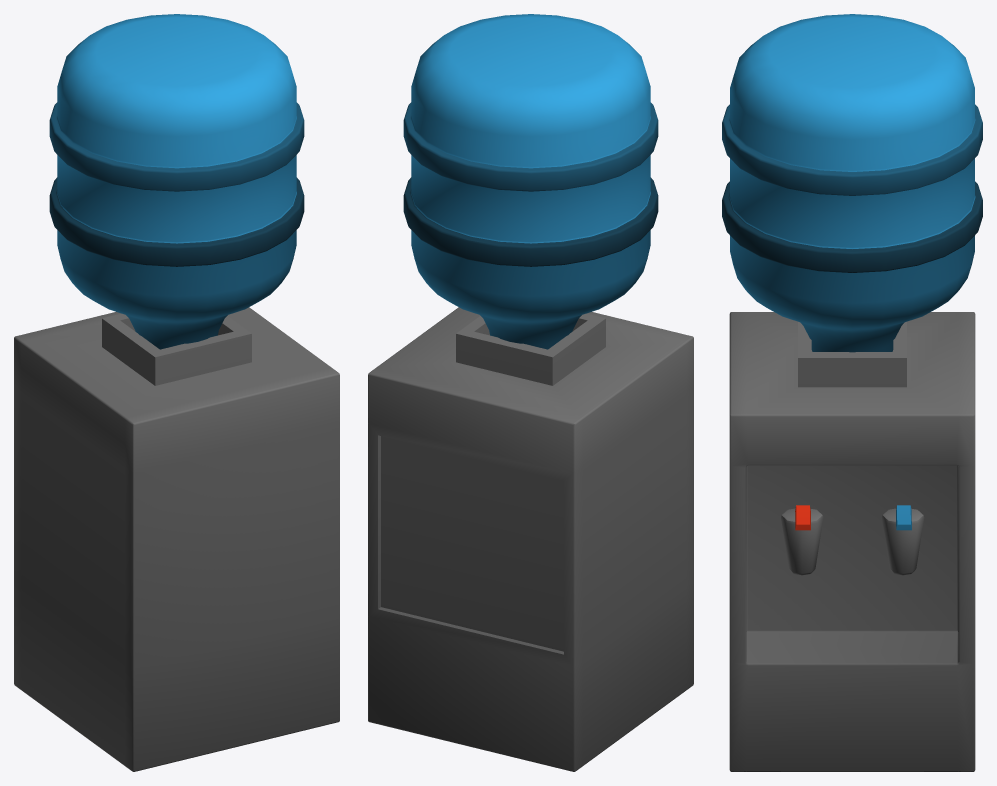
The model's file is SM_water.fbx.
3 views of the same model, side by side, from view 1: azimuth 30°, elevation 25°; view 2: azimuth 150°, elevation 25°; view 3: azimuth 270°, elevation 25° (orthographic). The views are drawn at different scales.
Visible parts, largest first — view 1: Cube.009; view 2: Cube.009; view 3: Cube.009.
Part boxes in pixels (x1,y1,x2,y2): Cube.009: (14,14,339,771); Cube.009: (368,14,693,771); Cube.009: (722,14,982,771).
Bounding box in the file's own units: 63.13 × 178 × 63.13.
